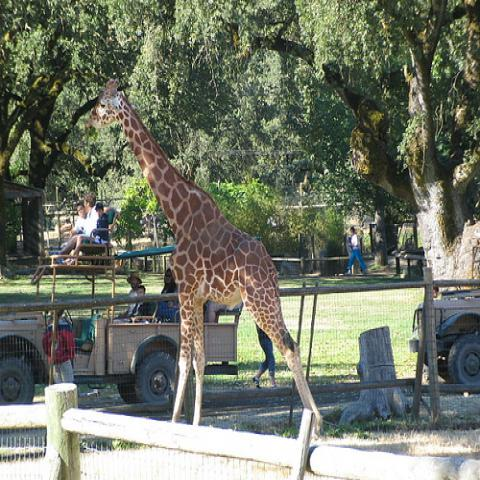truck: (1, 315, 236, 406)
